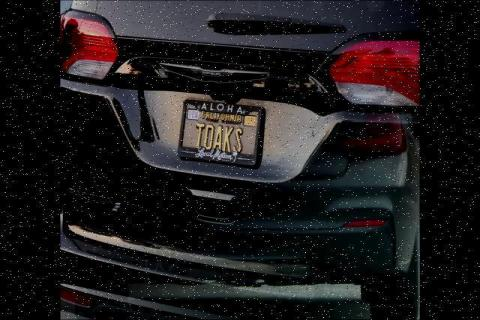LicensePlate: (176, 96, 261, 162)
